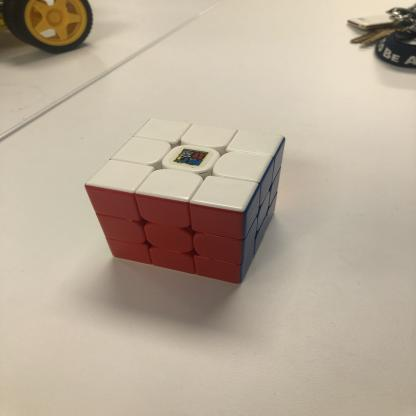SolvedCube: (79, 112, 292, 290)
